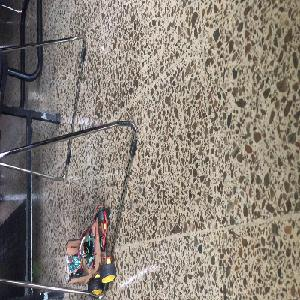Robot: (64, 208, 116, 295)
